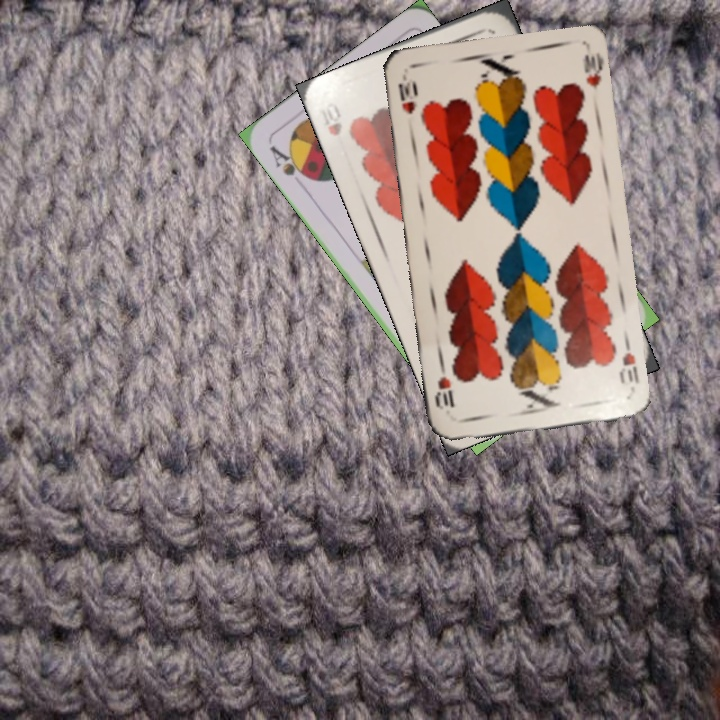H10: (615, 335, 642, 387), (394, 71, 419, 117), (320, 98, 345, 139)
SA: (265, 141, 314, 184)
